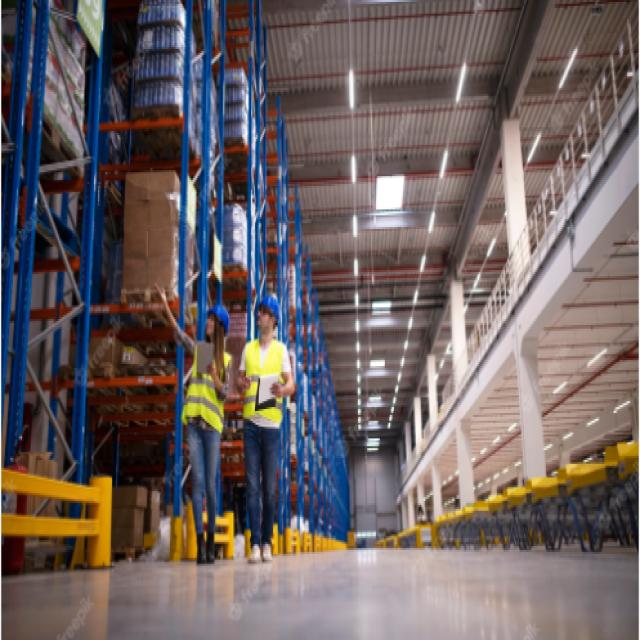boots: (190, 525, 222, 568)
helmet: (205, 303, 231, 347), (255, 295, 282, 337)
vest: (180, 337, 234, 438), (243, 334, 289, 429)
